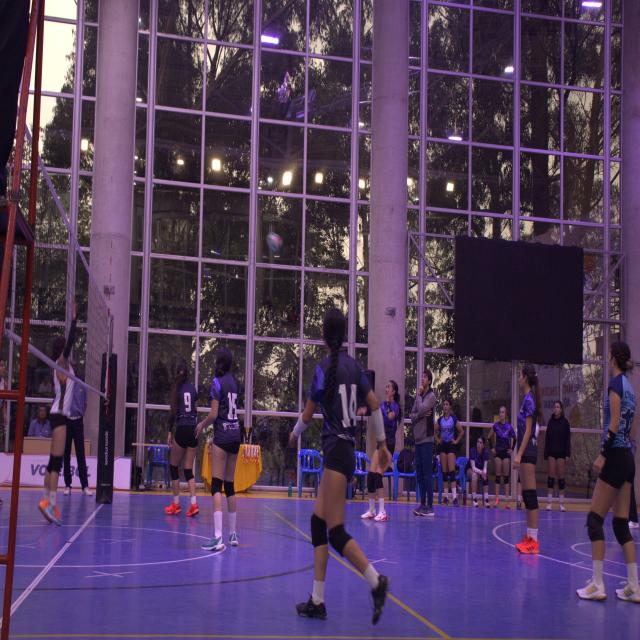volleyball: (266, 231, 284, 253)
